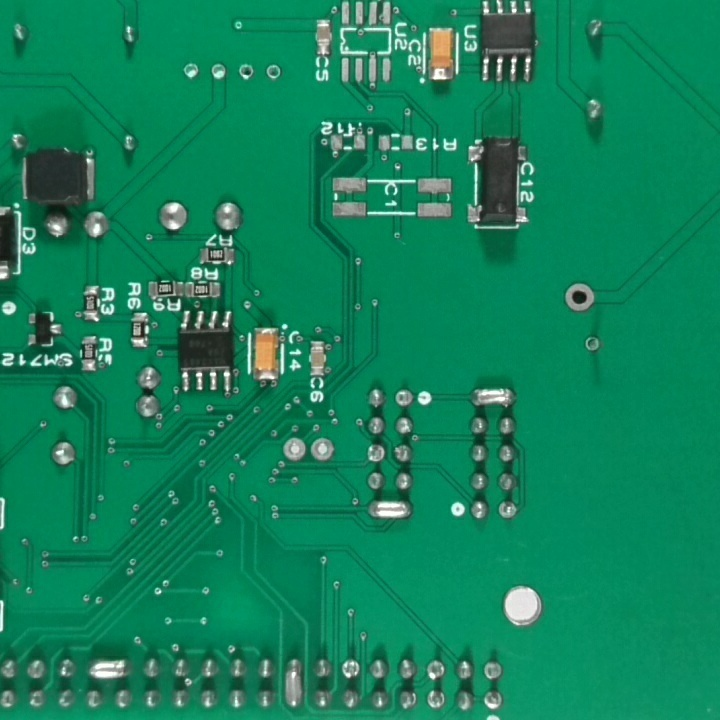F: (562, 279, 596, 314), (307, 433, 335, 463), (281, 434, 307, 463), (339, 655, 363, 683), (495, 498, 521, 523), (364, 440, 389, 466), (392, 386, 416, 412), (424, 686, 447, 712), (235, 60, 259, 84), (481, 688, 503, 711), (179, 60, 202, 82), (208, 60, 229, 83), (265, 60, 283, 86), (583, 332, 602, 356)
P: (464, 384, 519, 411), (364, 495, 414, 523), (282, 655, 304, 712), (85, 658, 131, 683)
